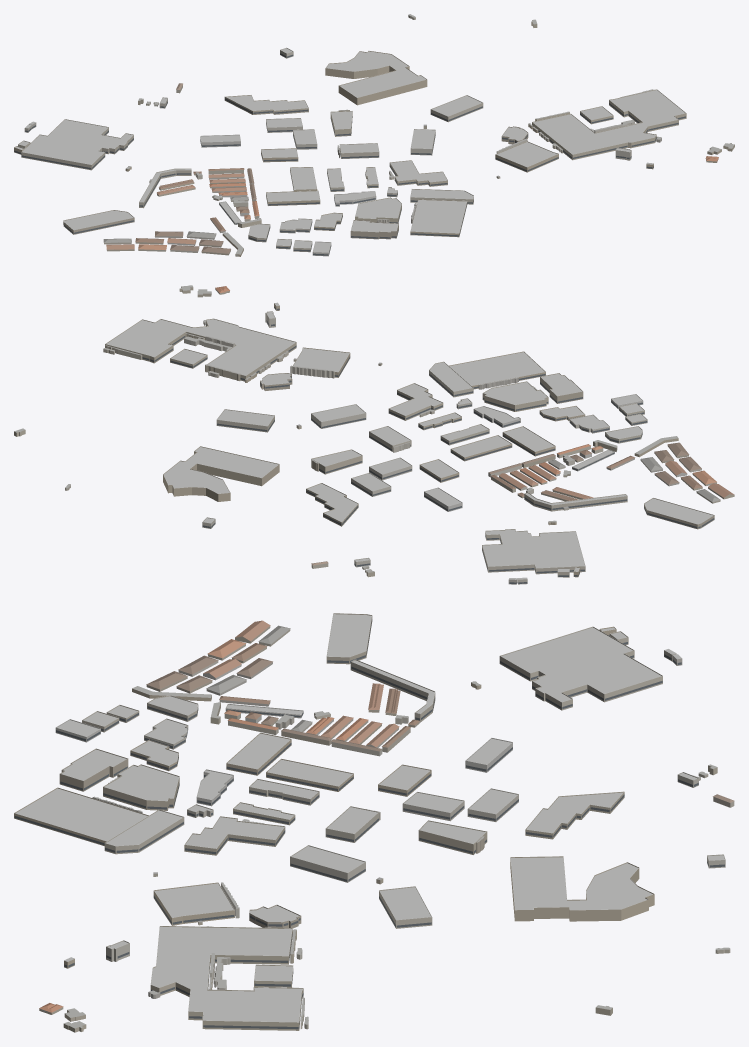
File: buildings_r4_c6.glb
3 views of the same model, one above another, from view 1: azimuth 30°, elevation 25°; view 2: azimuth 150°, elevation 25°; view 3: azimuth 270°, elevation 25° (orthographic). The views are drawn at different scales.
Visible parts, largest first — view 1: buildings_r4_c6; view 2: buildings_r4_c6; view 3: buildings_r4_c6.
Boxes of the visible parts, x1,y1,x2,y2 form: buildings_r4_c6: (14, 14, 734, 256); buildings_r4_c6: (14, 285, 734, 584); buildings_r4_c6: (14, 613, 734, 1032).
Size of the model in its own units: 1171 by 52.27 by 836.
